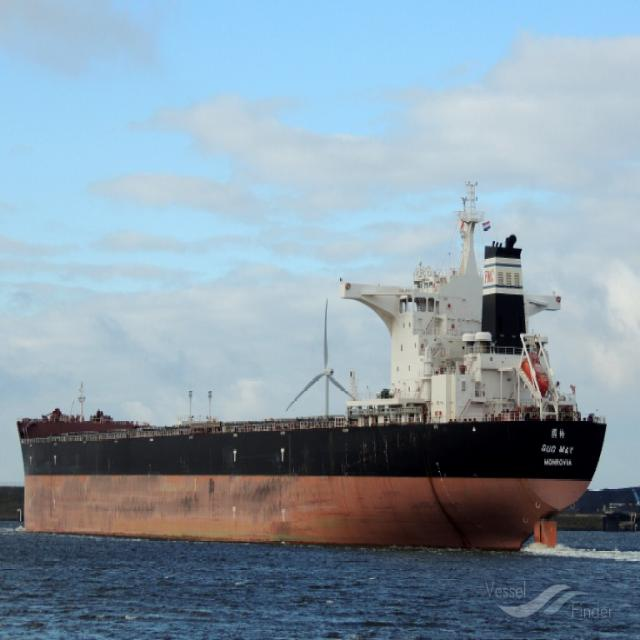OCR: (536, 436, 576, 457)
